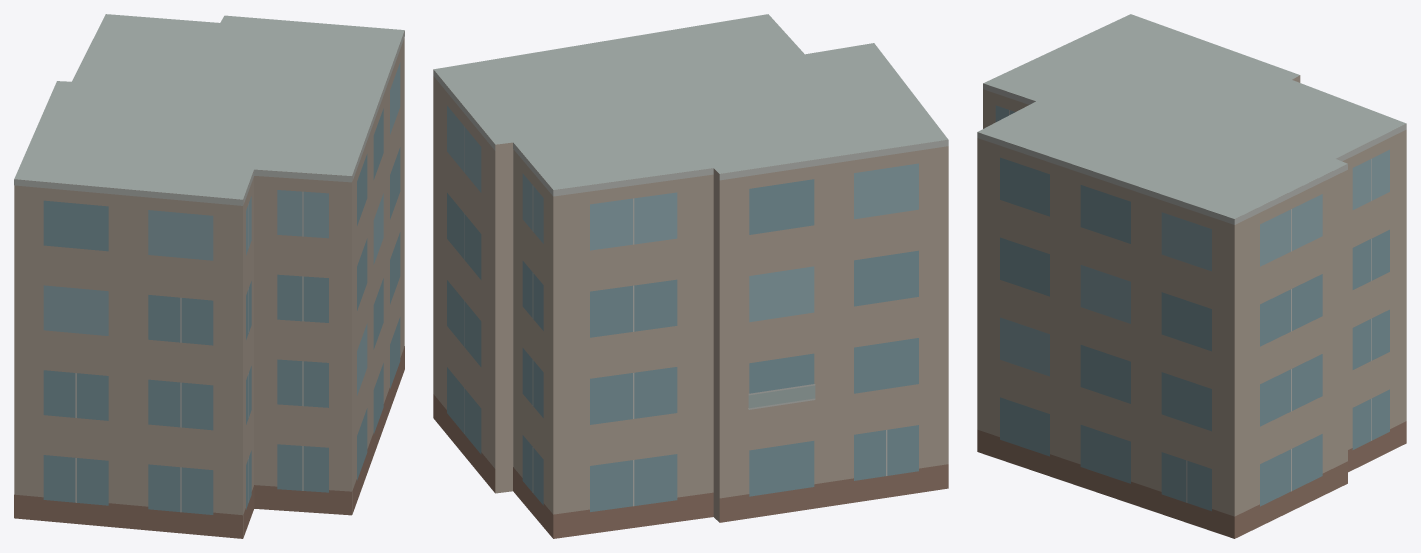
Rendered from survey-upis-32916415.glb.
The picture shows the model from 3 angles, left to right: view 1: azimuth 30°, elevation 25°; view 2: azimuth 150°, elevation 25°; view 3: azimuth 270°, elevation 25°; orthographic projection. The views are drawn at different scales.
Visible parts, largest first — view 1: survey-upis-32916415.tmp; view 2: survey-upis-32916415.tmp; view 3: survey-upis-32916415.tmp.
Boxes of the visible parts, box(x1,y1,x2,y2) form: survey-upis-32916415.tmp: box(14, 14, 404, 538); survey-upis-32916415.tmp: box(433, 14, 948, 538); survey-upis-32916415.tmp: box(977, 14, 1406, 538).
Size of the model in its own units: 18.16 by 13.2 by 16.07.
